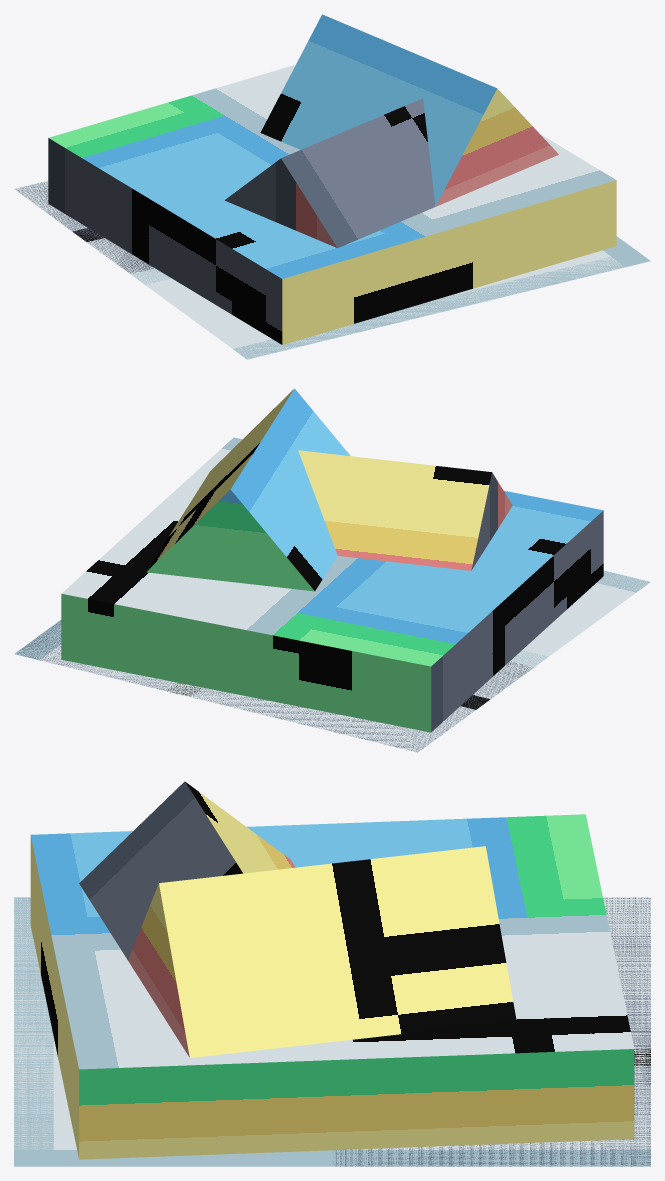
3 views of the same model, one above another, from view 1: azimuth 30°, elevation 25°; view 2: azimuth 150°, elevation 25°; view 3: azimuth 270°, elevation 25° (orthographic). The views are drawn at different scales.
Parts seen in each view (by area): view 1: fence, cube; view 2: fence, cube; view 3: fence, cube.
Boxes of the visible parts, x1,y1,x2,y2 form: fence: [48, 39, 616, 344]; cube: [14, 14, 650, 359]; fence: [61, 437, 603, 732]; cube: [14, 388, 650, 752]; fence: [30, 814, 634, 1159]; cube: [14, 781, 650, 1166].
Size of the model in its own units: 4 by 1.5 by 4.
